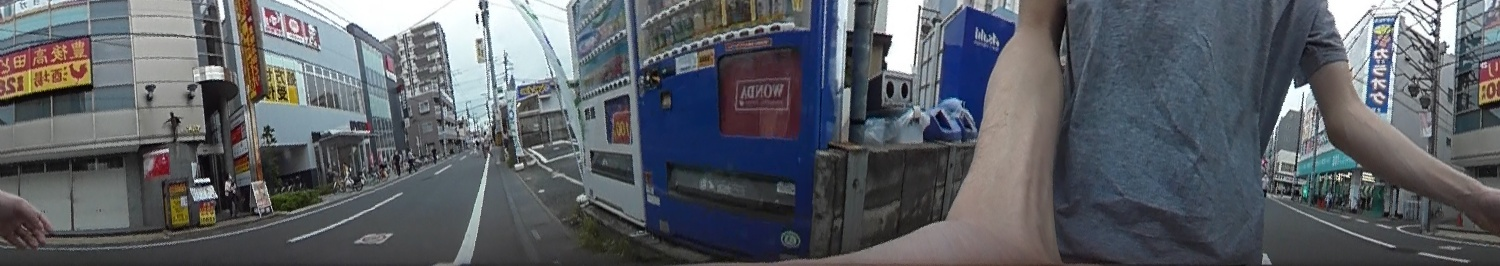difficult_person: (224, 172, 240, 218), (481, 130, 491, 156)
